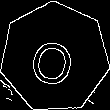O_N: (29, 28, 80, 86)
